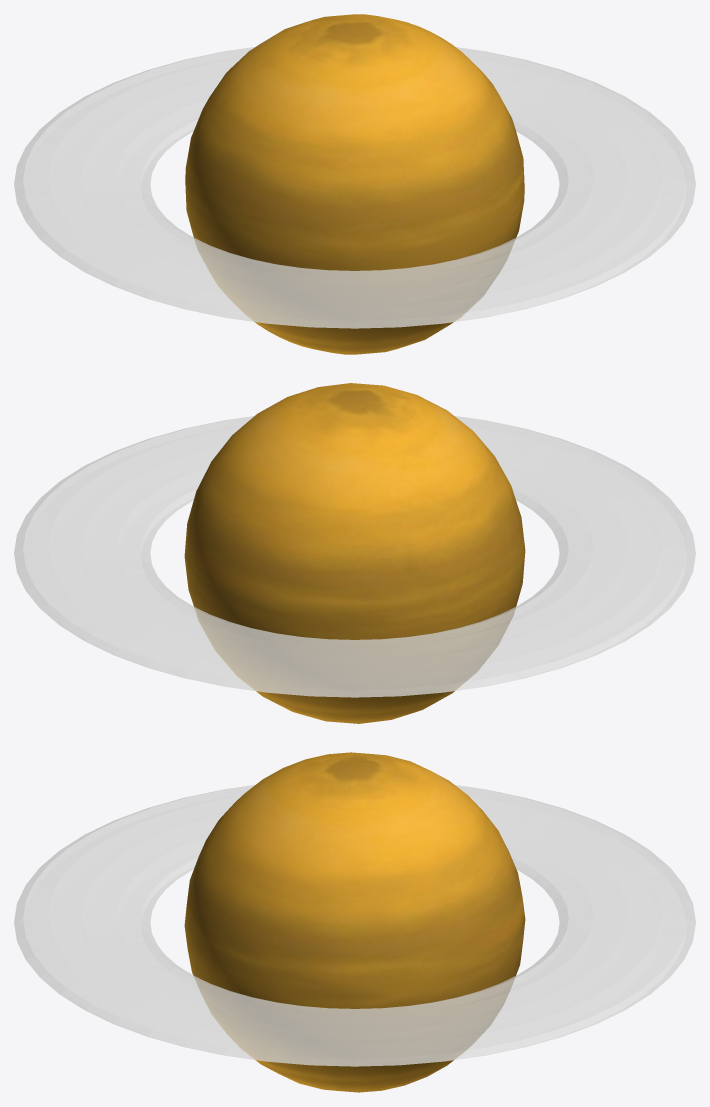
The model's file is saturn.glb.
3 views of the same model, one above another, from view 1: azimuth 30°, elevation 25°; view 2: azimuth 150°, elevation 25°; view 3: azimuth 270°, elevation 25° (orthographic).
Parts seen in each view (by area): view 1: 球, トーラス; view 2: 球, トーラス; view 3: 球, トーラス.
Part boxes in pixels (box(x1,y1,x2,y2)): 球: box(185, 14, 524, 354); トーラス: box(14, 47, 695, 328); 球: box(184, 383, 525, 723); トーラス: box(14, 416, 695, 697); 球: box(184, 752, 525, 1092); トーラス: box(14, 785, 695, 1066).
Bounding box in the file's own units: 4 × 1.99 × 4.
Materials: 2 (1 with a texture image).
